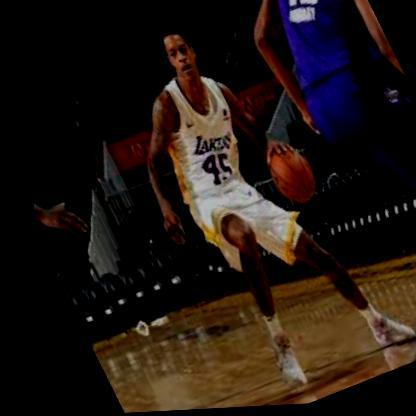basketball: (256, 147, 320, 213)
